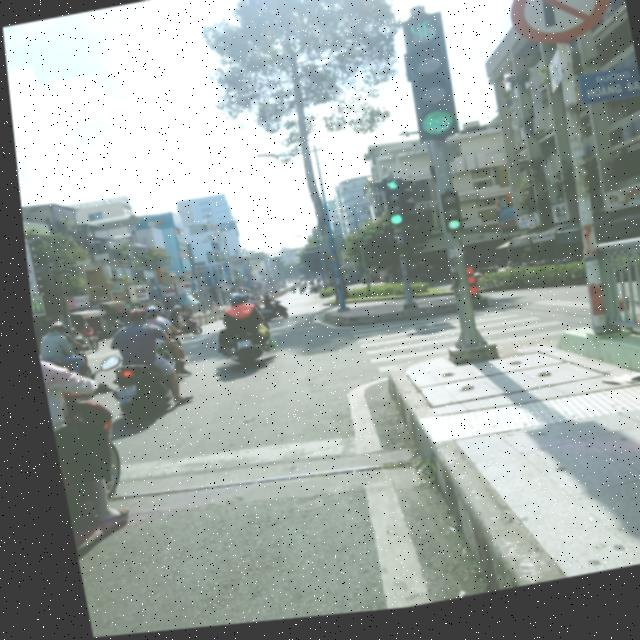Green: (391, 46, 470, 146), (429, 193, 467, 245), (369, 198, 406, 242)
